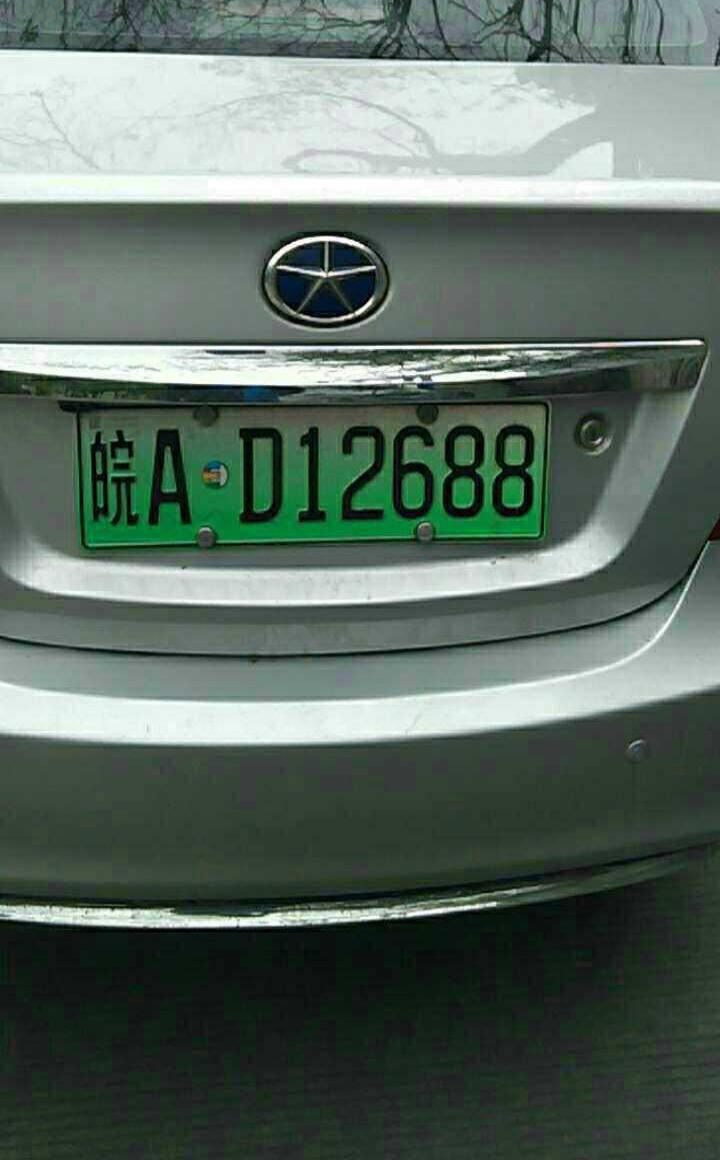car: (58, 404, 549, 540)
